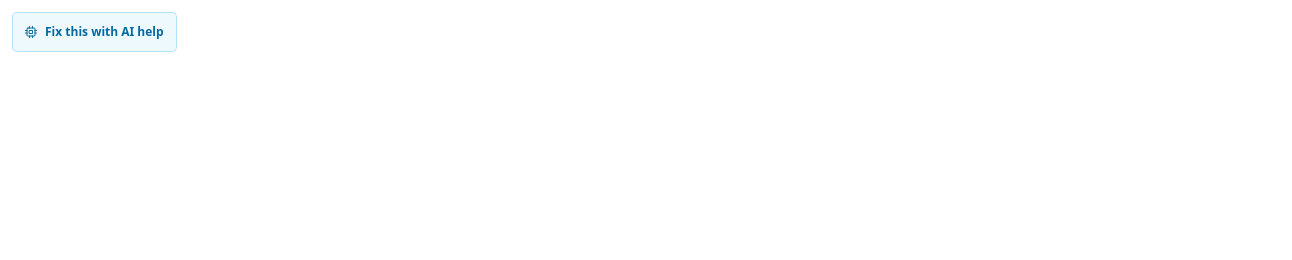
Test: applying a remediation › says what it will not do from here, rather than dropping it quietly
The image size is (1292, 260).
Click the button "Fix this with AI help" at (94, 32), box [12, 12, 177, 52]
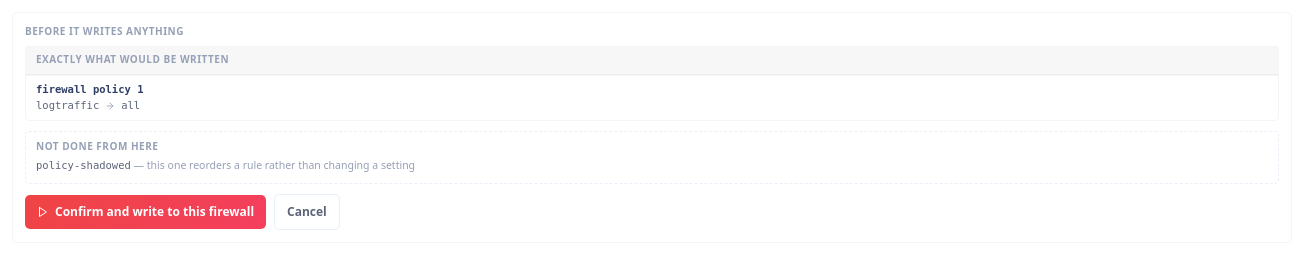
Result: the text "Not done from here" is shown at [36, 138, 158, 154]
Result: the text "policy-shadowed" is shown at [36, 158, 131, 170]
